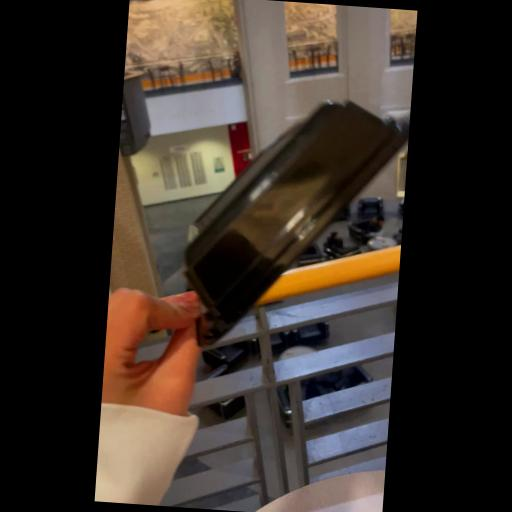rigid_plastic_container: (174, 90, 408, 364)
